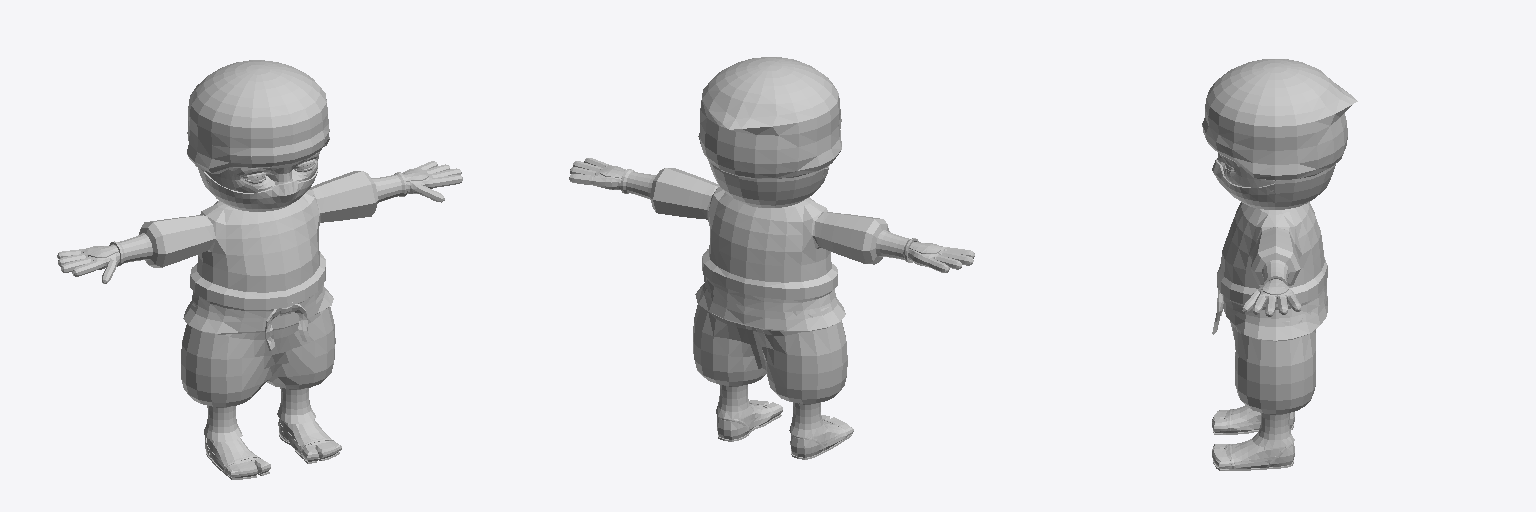
File: Ninja.obj
3 views of the same model, side by side, from view 1: azimuth 30°, elevation 25°; view 2: azimuth 150°, elevation 25°; view 3: azimuth 270°, elevation 25° (orthographic).
Parts seen in each view (by area): view 1: Ninja_T01:Saco, Ninja_T01:Casco, Ninja_T01:Pantalon_02, Ninja_T01:Paniuelo, Ninja_T01:Cara, Ninja_T01:Cinturon, default, Ninja_T01:Pie_DE, Ninja_T01:Pie_IZ, Ninja_T01:Mano_DE, Ninja_T01:Mano_IZ, Ninja_T01:Media_DE (+1 smaller); view 2: Ninja_T01:Saco, Ninja_T01:Casco, Ninja_T01:Pantalon_02, Ninja_T01:Paniuelo, default, Ninja_T01:Cinturon, Ninja_T01:Mano_DE, Ninja_T01:Pie_DE, Ninja_T01:Pie_IZ, Ninja_T01:Media_IZ, Ninja_T01:Media_DE, Ninja_T01:Mano_IZ; view 3: Ninja_T01:Casco, Ninja_T01:Saco, Ninja_T01:Pantalon_02, Ninja_T01:Paniuelo, Ninja_T01:Pie_IZ, Ninja_T01:Media_IZ, Ninja_T01:Mano_IZ, Ninja_T01:Pie_DE, Ninja_T01:Cinturon, Ninja_T01:Cara.
Part boxes in pixels (x1,y1,x2,y2): Ninja_T01:Saco: (139,171,378,334); Ninja_T01:Casco: (187,60,329,173); Ninja_T01:Pantalon_02: (181,300,335,406); Ninja_T01:Paniuelo: (198,168,317,211); Ninja_T01:Cara: (205,152,319,192); Ninja_T01:Cinturon: (192,284,323,350); default: (109,172,407,266); Ninja_T01:Pie_DE: (205,437,270,477); Ninja_T01:Pie_IZ: (278,419,341,461); Ninja_T01:Mano_DE: (57,248,119,283); Ninja_T01:Mano_IZ: (407,161,462,202); Ninja_T01:Media_DE: (204,406,242,441); Ninja_T01:Saco: (650,168,889,331); Ninja_T01:Casco: (698,57,841,178); Ninja_T01:Pantalon_02: (693,287,847,403); Ninja_T01:Paniuelo: (708,160,829,207); default: (621,169,918,262); Ninja_T01:Cinturon: (704,276,835,311); Ninja_T01:Mano_DE: (908,246,974,272); Ninja_T01:Pie_DE: (790,415,853,457); Ninja_T01:Pie_IZ: (717,400,782,439); Ninja_T01:Media_IZ: (716,385,753,419); Ninja_T01:Media_DE: (789,402,827,437); Ninja_T01:Mano_IZ: (569,158,621,189); Ninja_T01:Casco: (1202,59,1357,180); Ninja_T01:Saco: (1217,202,1327,341); Ninja_T01:Pantalon_02: (1230,310,1315,413); Ninja_T01:Paniuelo: (1212,159,1335,209); Ninja_T01:Pie_IZ: (1212,438,1294,468); Ninja_T01:Media_IZ: (1252,413,1294,447); Ninja_T01:Mano_IZ: (1242,285,1300,316); Ninja_T01:Pie_DE: (1212,405,1294,432); Ninja_T01:Cinturon: (1212,281,1326,334); Ninja_T01:Cara: (1217,153,1274,191).
Bounding box in the file's own units: 40.58 × 36.55 × 13.65.